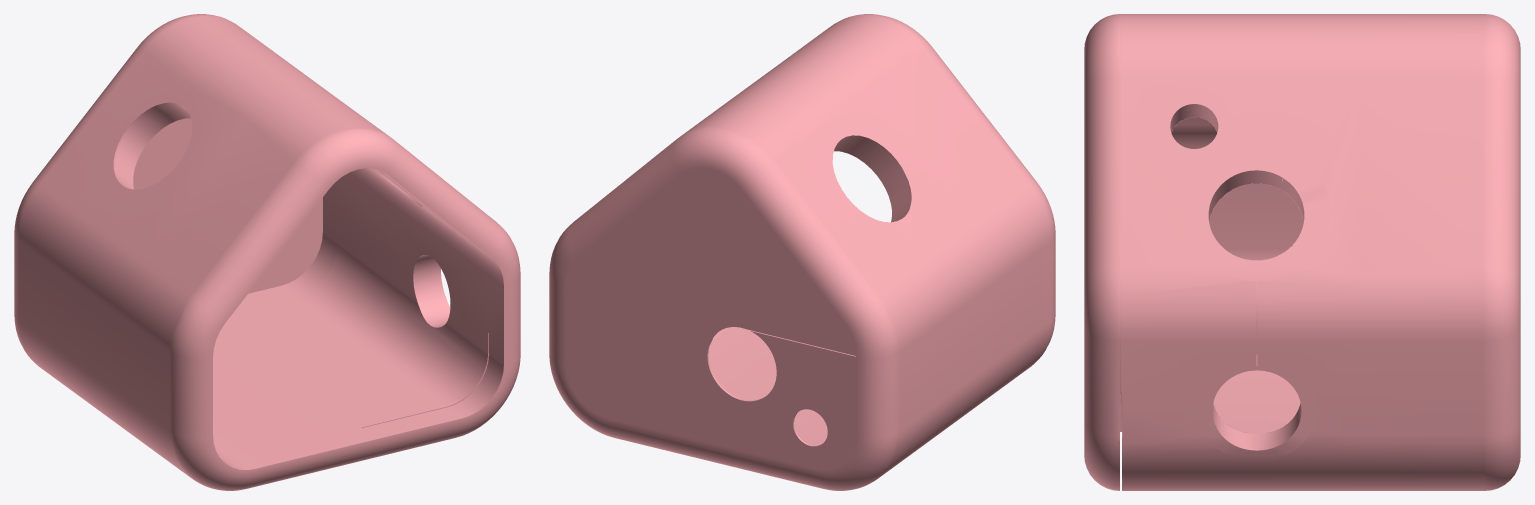
Rendered from HomieHead.glb.
3 renders of one model, left to right at view 1: azimuth 30°, elevation 25°; view 2: azimuth 150°, elevation 25°; view 3: azimuth 270°, elevation 25°, orthographic. The views are drawn at different scales.
Visible parts, largest first — view 1: Brep.405; view 2: Brep.405; view 3: Brep.405.
Part boxes in pixels (box(x1,y1,x2,y2)): Brep.405: box(14, 14, 520, 490); Brep.405: box(549, 14, 1055, 490); Brep.405: box(1084, 14, 1520, 490).
Size of the model in its own units: 0.5144 by 0.4718 by 0.4685.
